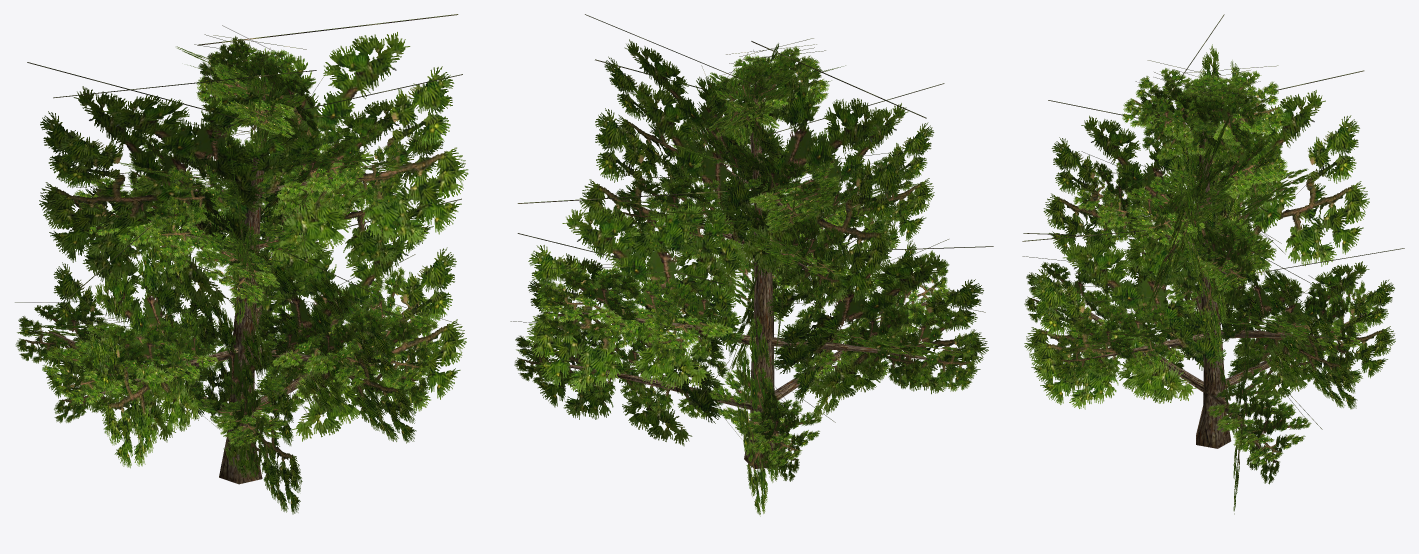
The model's file is far.glb.
3 views of the same model, side by side, from view 1: azimuth 30°, elevation 25°; view 2: azimuth 150°, elevation 25°; view 3: azimuth 270°, elevation 25° (orthographic). The views are drawn at different scales.
Parts seen in each view (by area): view 1: lod2, lod1; view 2: lod2, lod1; view 3: lod2, lod1.
Boxes of the visible parts, left/top/right/bottom form: lod2: left=27, top=14, right=468, bottom=514; lod1: left=15, top=25, right=460, bottom=482; lod2: left=517, top=14, right=993, bottom=516; lod1: left=510, top=38, right=985, bottom=481; lod2: left=1022, top=14, right=1404, bottom=514; lod1: left=1022, top=60, right=1378, bottom=484.
Bounding box in the file's own units: 7.95 × 7.1 × 6.89.
2 materials, 2 textured.
